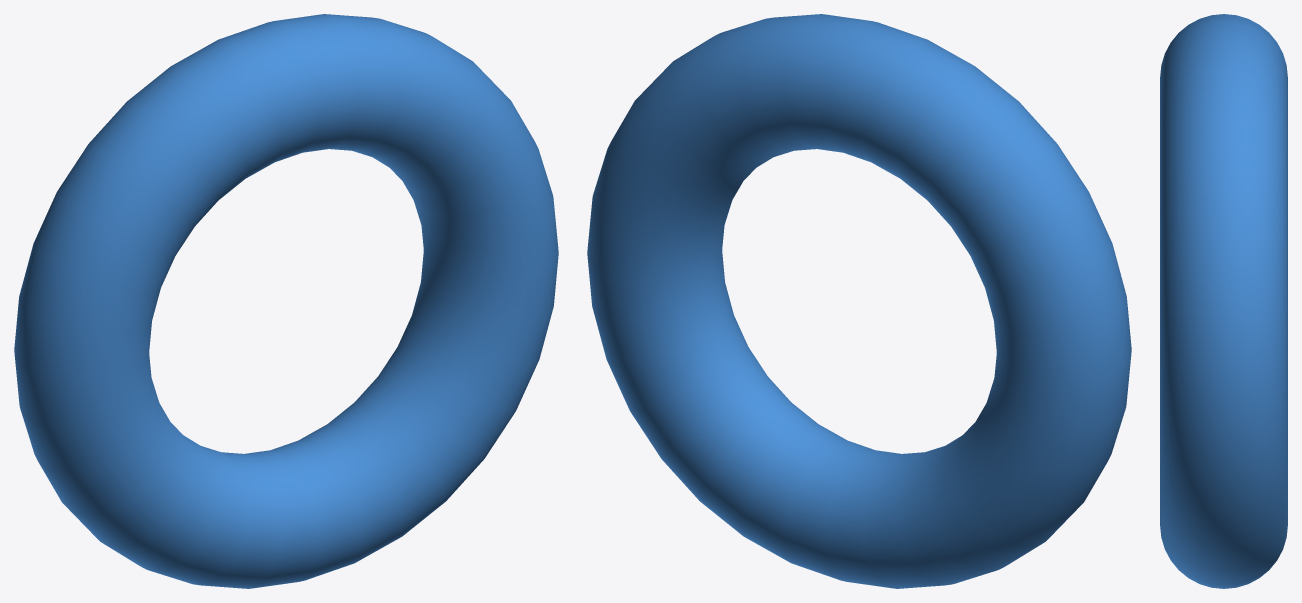
File: expected.gltf
3 renders of one model, left to right at view 1: azimuth 30°, elevation 25°; view 2: azimuth 150°, elevation 25°; view 3: azimuth 270°, elevation 25°, orthographic. The views are drawn at different scales.
Bounding box in the file's own units: 36 × 36 × 8.
